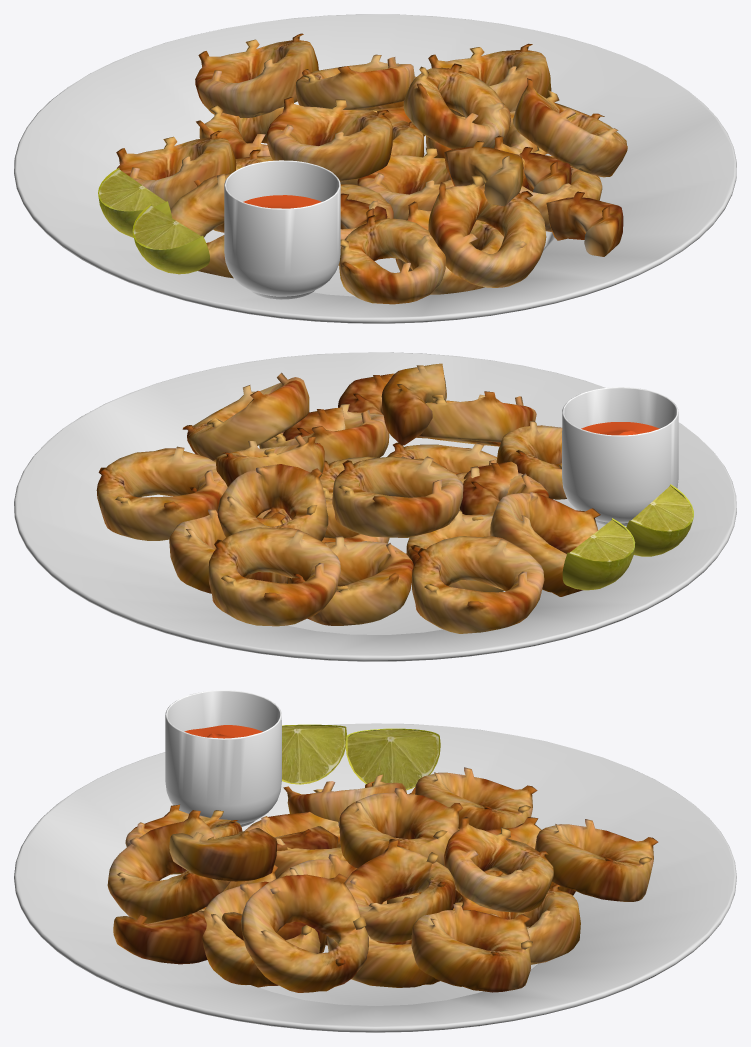
The model's file is seafood_fish.glb.
The picture shows the model from 3 angles, top to bottom: view 1: azimuth 30°, elevation 25°; view 2: azimuth 150°, elevation 25°; view 3: azimuth 270°, elevation 25°; orthographic projection.
Parts seen in each view (by area): view 1: Object_148, Object_142, Object_144, Object_196, Object_146; view 2: Object_148, Object_142, Object_144, Object_196, Object_146; view 3: Object_148, Object_142, Object_144, Object_196, Object_146.
Boxes of the visible parts, box(x1,y1,x2,y2) form: Object_148: box(116, 33, 627, 304); Object_142: box(14, 14, 736, 323); Object_144: box(224, 160, 340, 299); Object_196: box(98, 168, 209, 274); Object_146: box(243, 195, 321, 208); Object_148: box(96, 363, 600, 633); Object_142: box(14, 352, 736, 661); Object_144: box(562, 387, 678, 525); Object_196: box(562, 484, 693, 590); Object_146: box(581, 422, 659, 435); Object_148: box(107, 767, 658, 992); Object_142: box(14, 723, 736, 1032); Object_144: box(165, 690, 281, 826); Object_196: box(282, 724, 440, 790); Object_146: box(184, 725, 262, 738).
Size of the model in its own units: 2.29 by 0.5081 by 2.29.
Materials: 5 (2 with a texture image).
